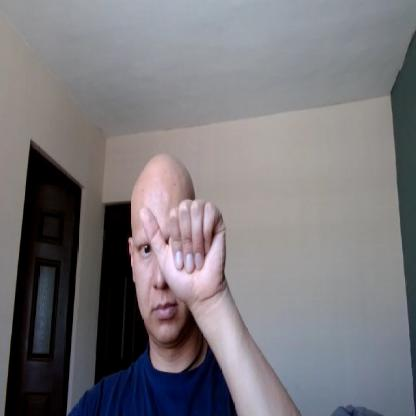A: (141, 198, 228, 302)
